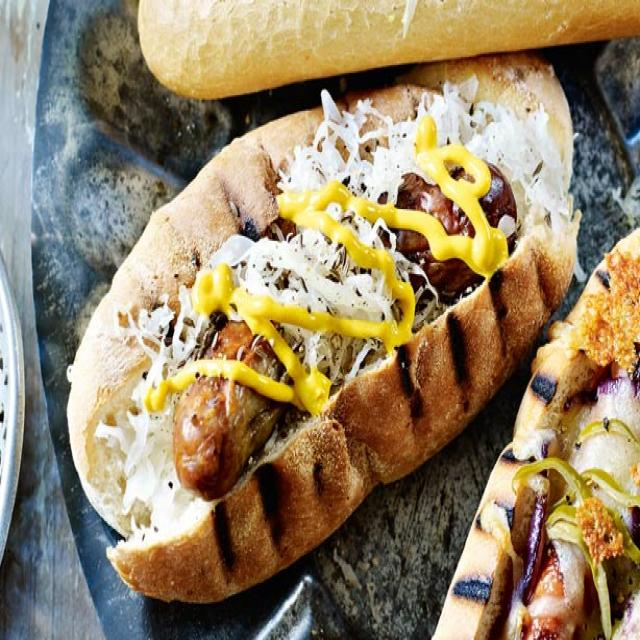Hot Dog: (98, 94, 612, 605)
